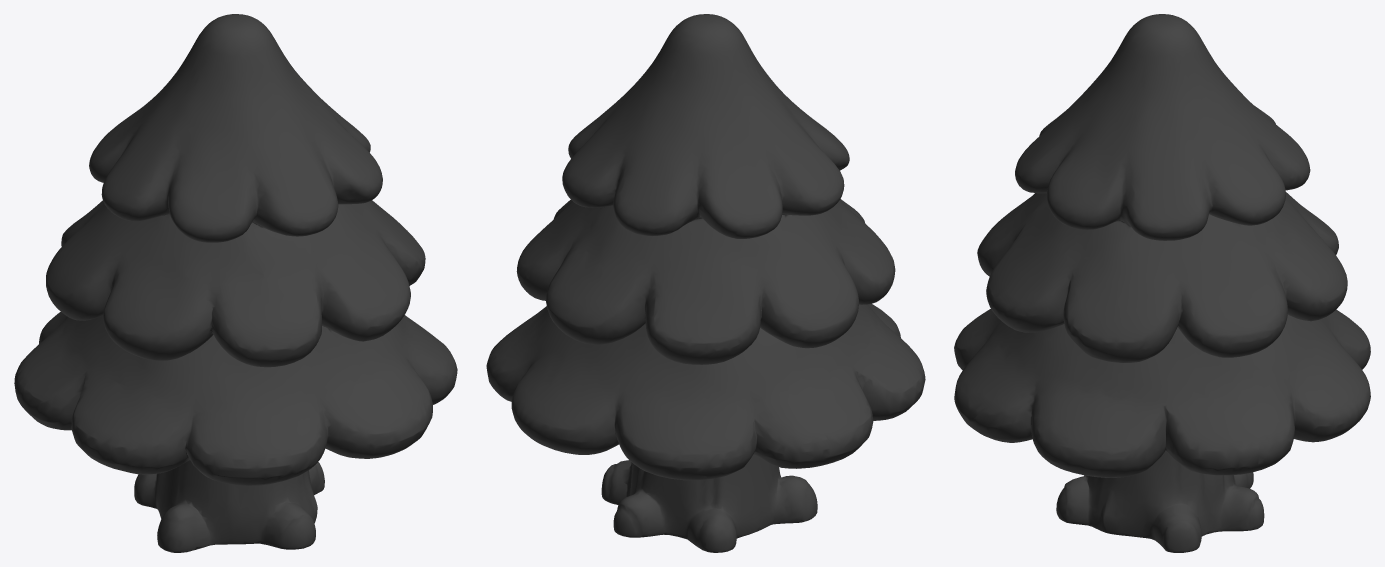
The model's file is pr_pino.glb.
3 views of the same model, side by side, from view 1: azimuth 30°, elevation 25°; view 2: azimuth 150°, elevation 25°; view 3: azimuth 270°, elevation 25° (orthographic).
Parts seen in each view (by area): view 1: geometry_0; view 2: geometry_0; view 3: geometry_0.
Part boxes in pixels (left/top/right/bottom): geometry_0: left=14, top=14, right=457, bottom=552; geometry_0: left=486, top=14, right=925, bottom=552; geometry_0: left=954, top=14, right=1370, bottom=552.
Bounding box in the file's own units: 0.7773 × 1 × 0.7712.
Materials: 1 (1 with a texture image).
